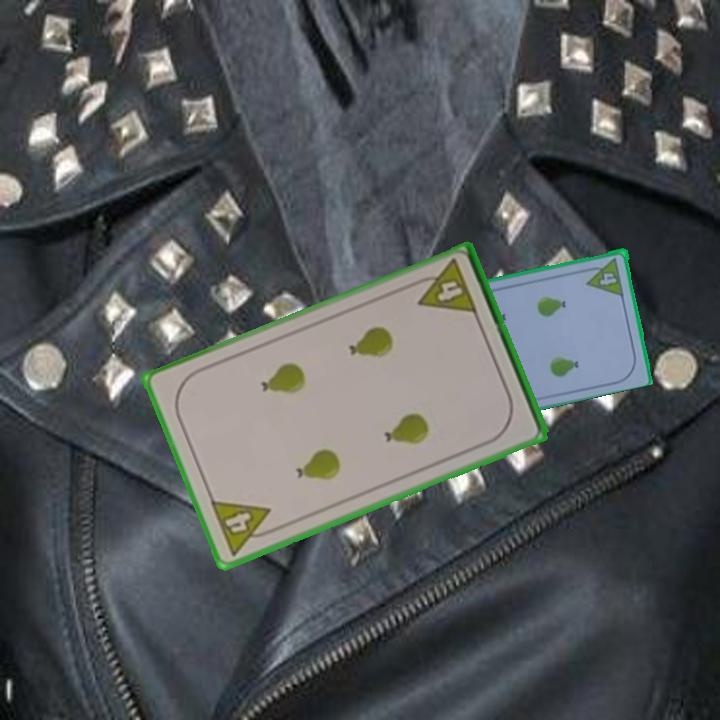4p: (206, 496, 281, 559), (408, 256, 480, 318), (581, 254, 627, 298)
